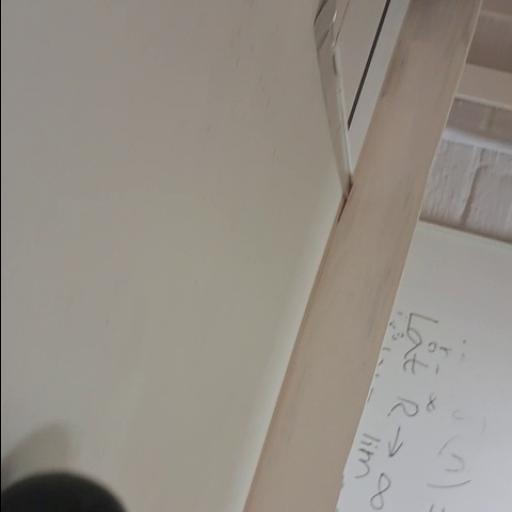dead: (2, 471, 133, 512)
